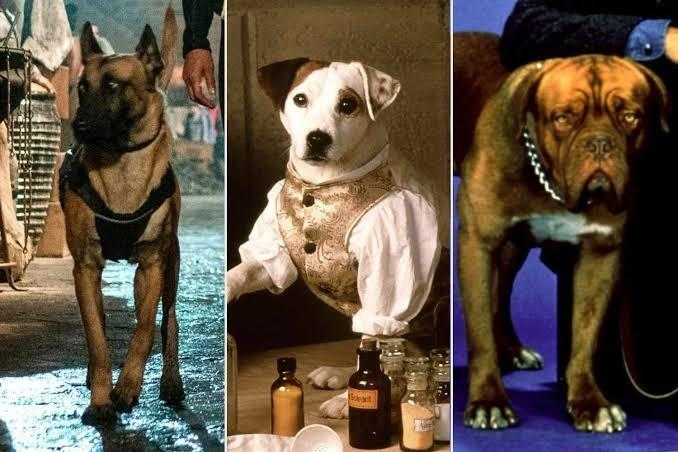adult_dog: (453, 31, 668, 436), (224, 57, 442, 391), (57, 4, 185, 420)
